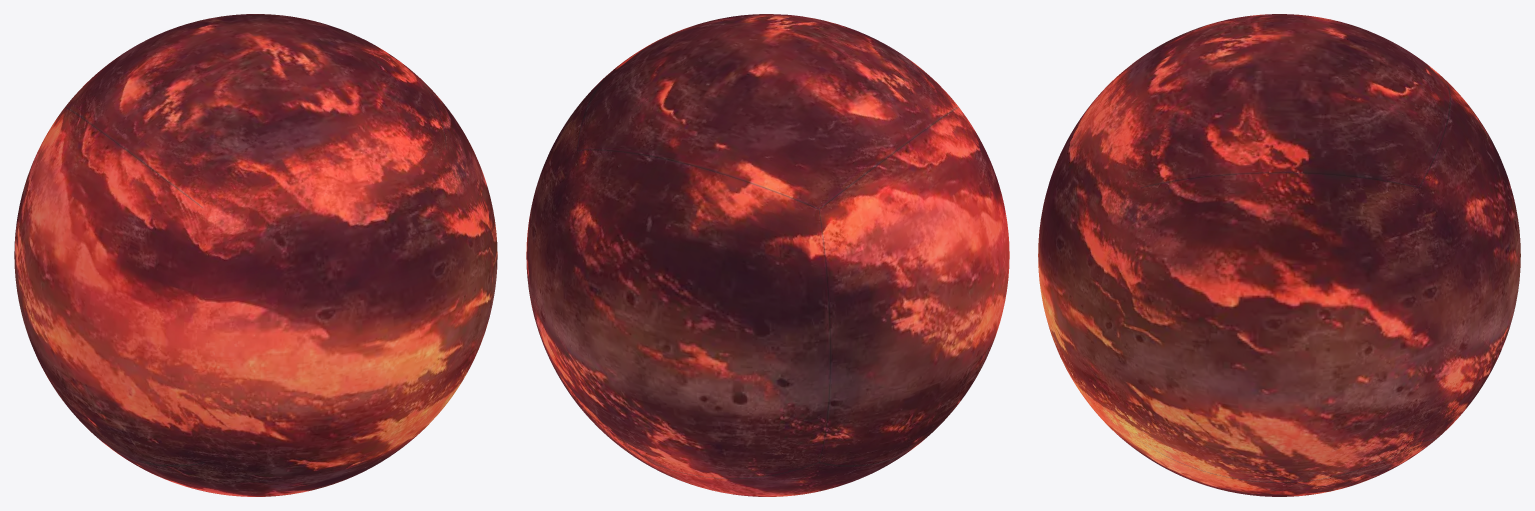
File: AdobeStock_125031706_planetAlien_03.glb
The picture shows the model from 3 angles, left to right: view 1: azimuth 30°, elevation 25°; view 2: azimuth 150°, elevation 25°; view 3: azimuth 270°, elevation 25°; orthographic projection.
Parts seen in each view (by area): view 1: planetAlien_03; view 2: planetAlien_03; view 3: planetAlien_03.
Part boxes in pixels (x1,y1,x2,y2): planetAlien_03: [14, 14, 497, 496]; planetAlien_03: [526, 14, 1009, 496]; planetAlien_03: [1038, 14, 1520, 496].
Size of the model in its own units: 20.97 by 20.97 by 20.97.
Materials: 1 (1 with a texture image).
